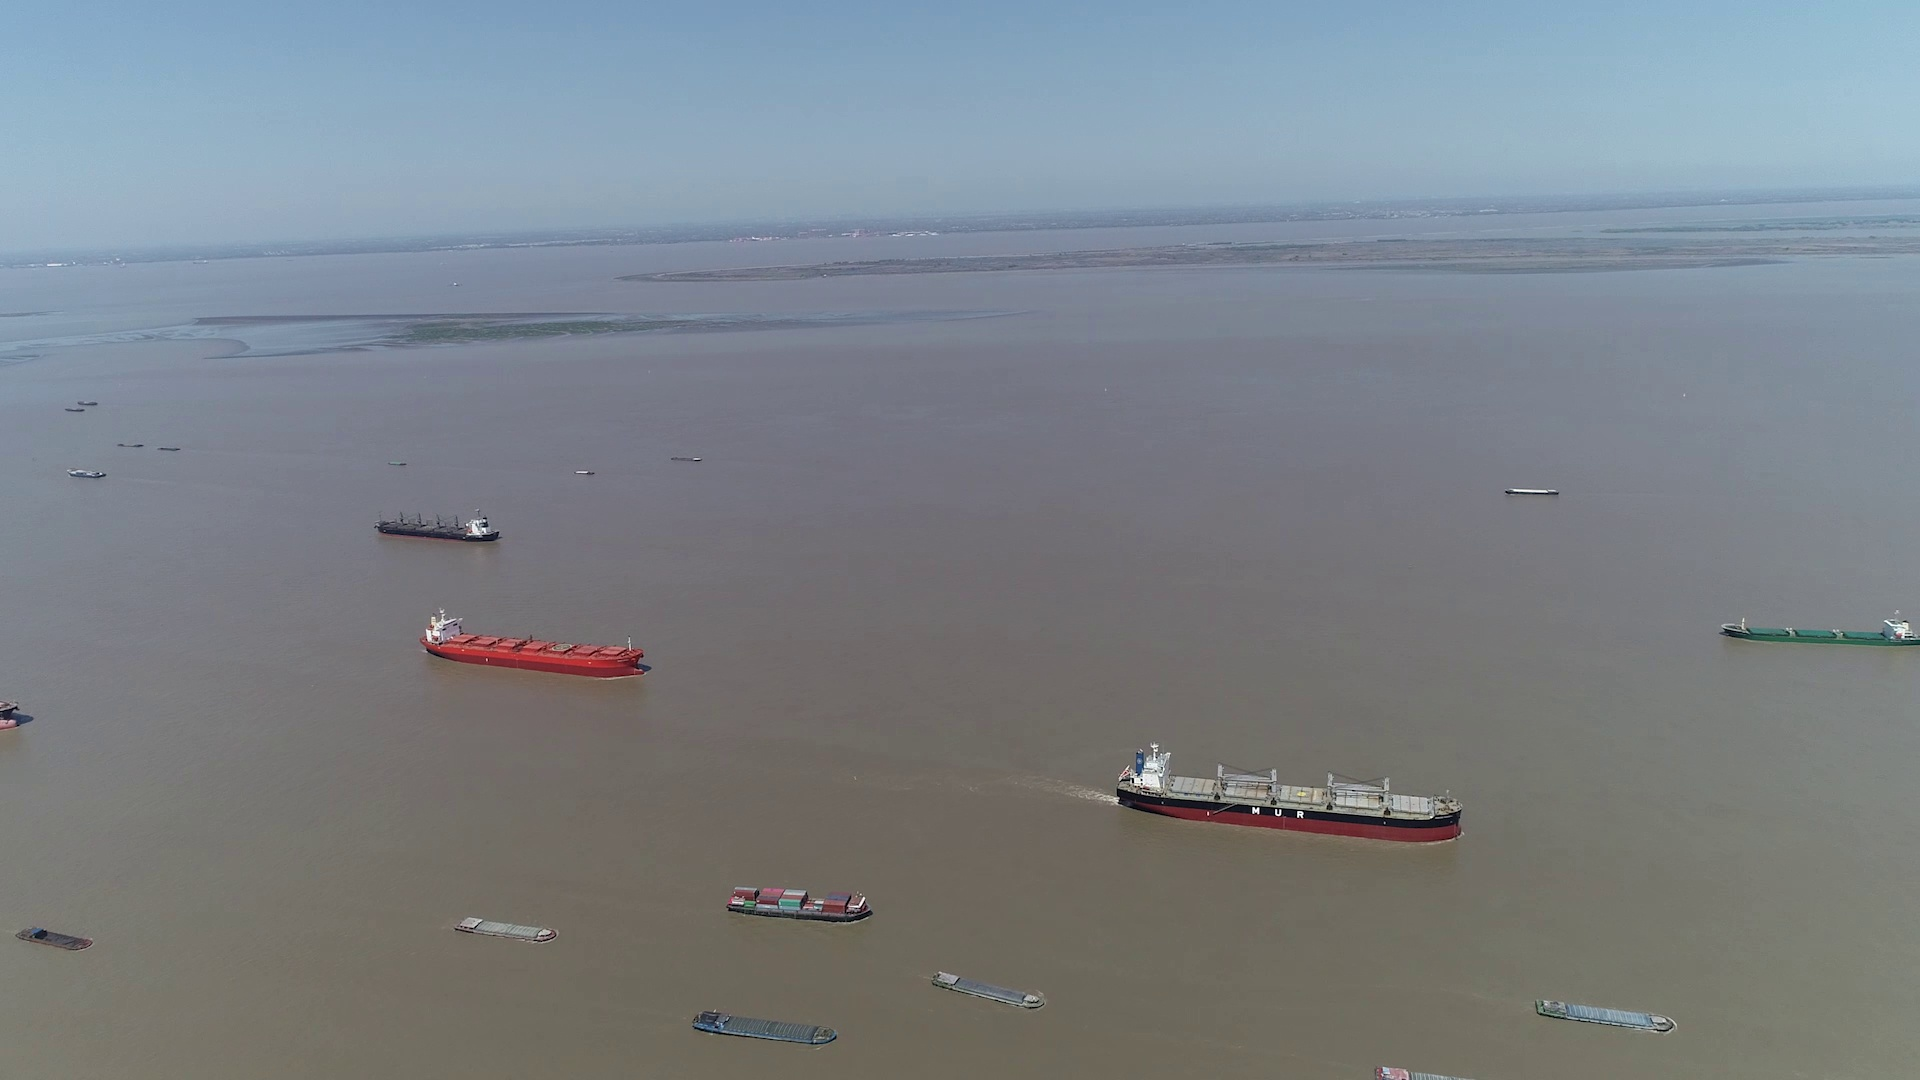ship: (1114, 744, 1465, 843), (419, 608, 647, 676), (1720, 613, 1920, 646), (727, 884, 872, 922), (692, 1011, 837, 1048), (1534, 998, 1676, 1035), (930, 972, 1044, 1011), (375, 509, 500, 543), (455, 914, 559, 943), (18, 924, 94, 951), (1371, 1064, 1469, 1080), (0, 688, 32, 735), (1505, 487, 1559, 497), (67, 468, 107, 479), (671, 454, 702, 463)
